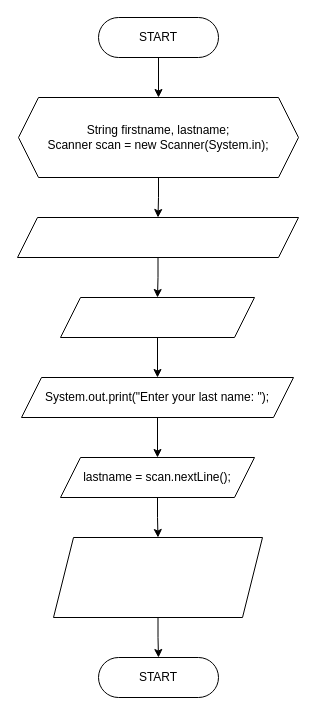
Image size: 316x715. Some labels were removed from this diagram. The box of each missing label's shape, as (x1, y1, x2, y2) in pixels:
firstname = scan.nextLine();: (60, 296, 254, 338)
System.out.print("Enter your first name: ");: (16, 216, 298, 258)
System.out.println( "Hello\n" + firstname + " " + lastname);: (52, 536, 262, 618)
